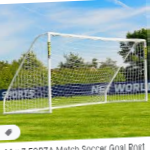goals: (3, 29, 150, 116)
